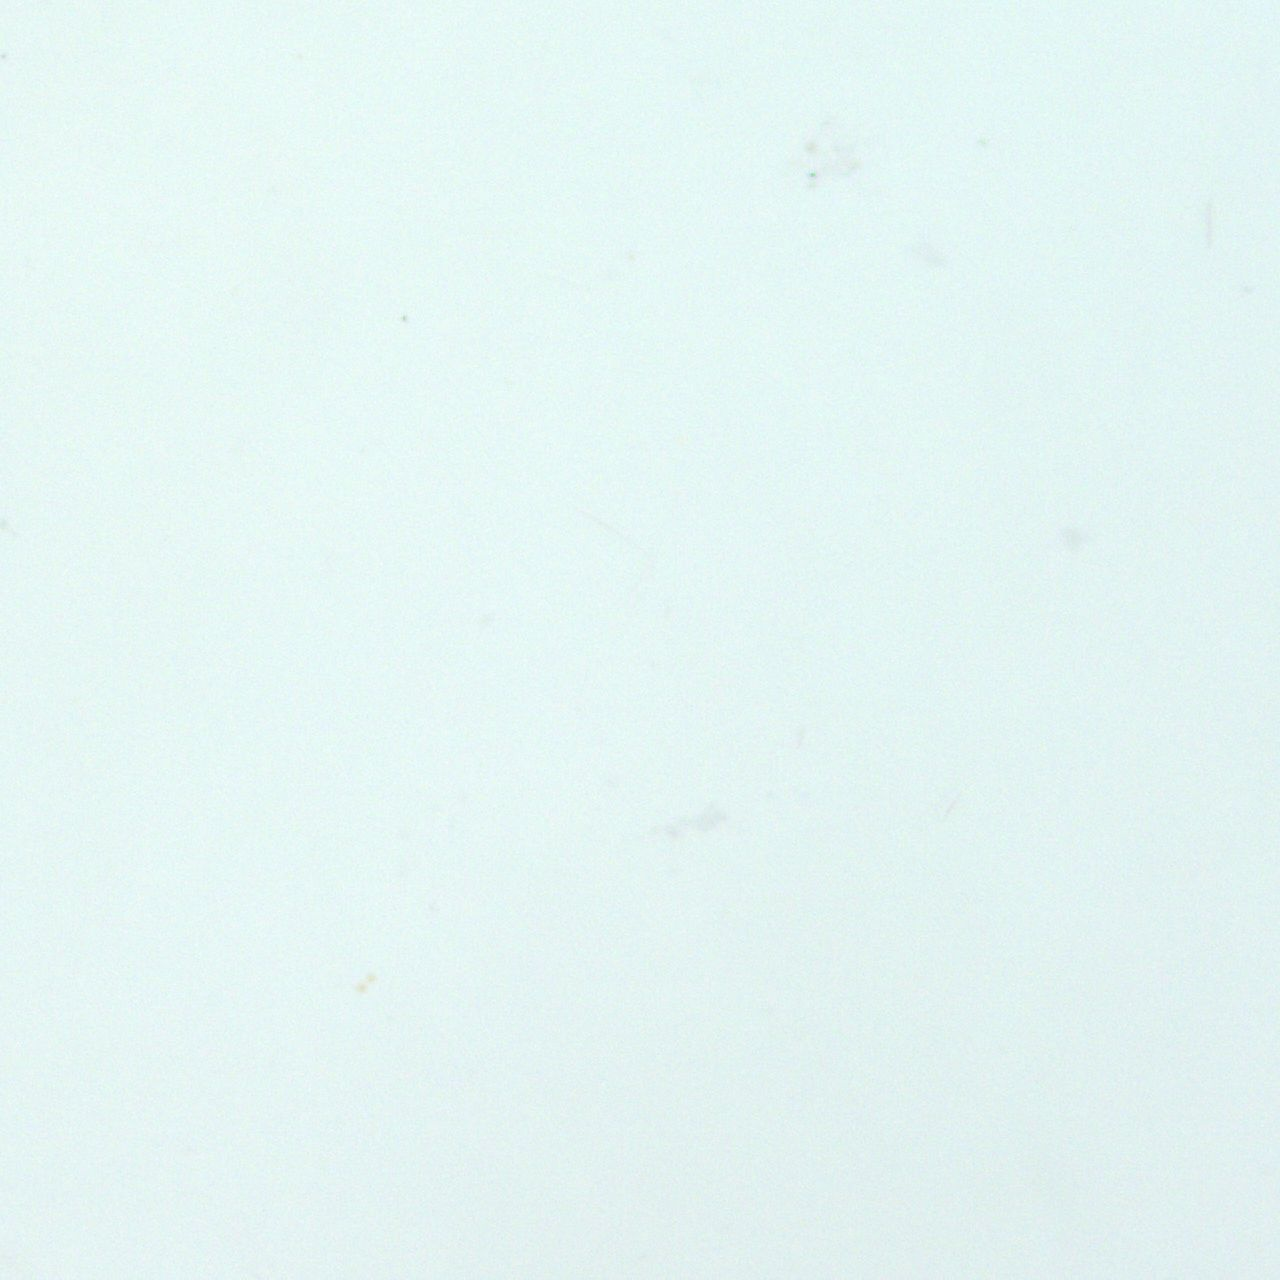dust: (356, 983, 365, 994), (366, 973, 374, 981)
